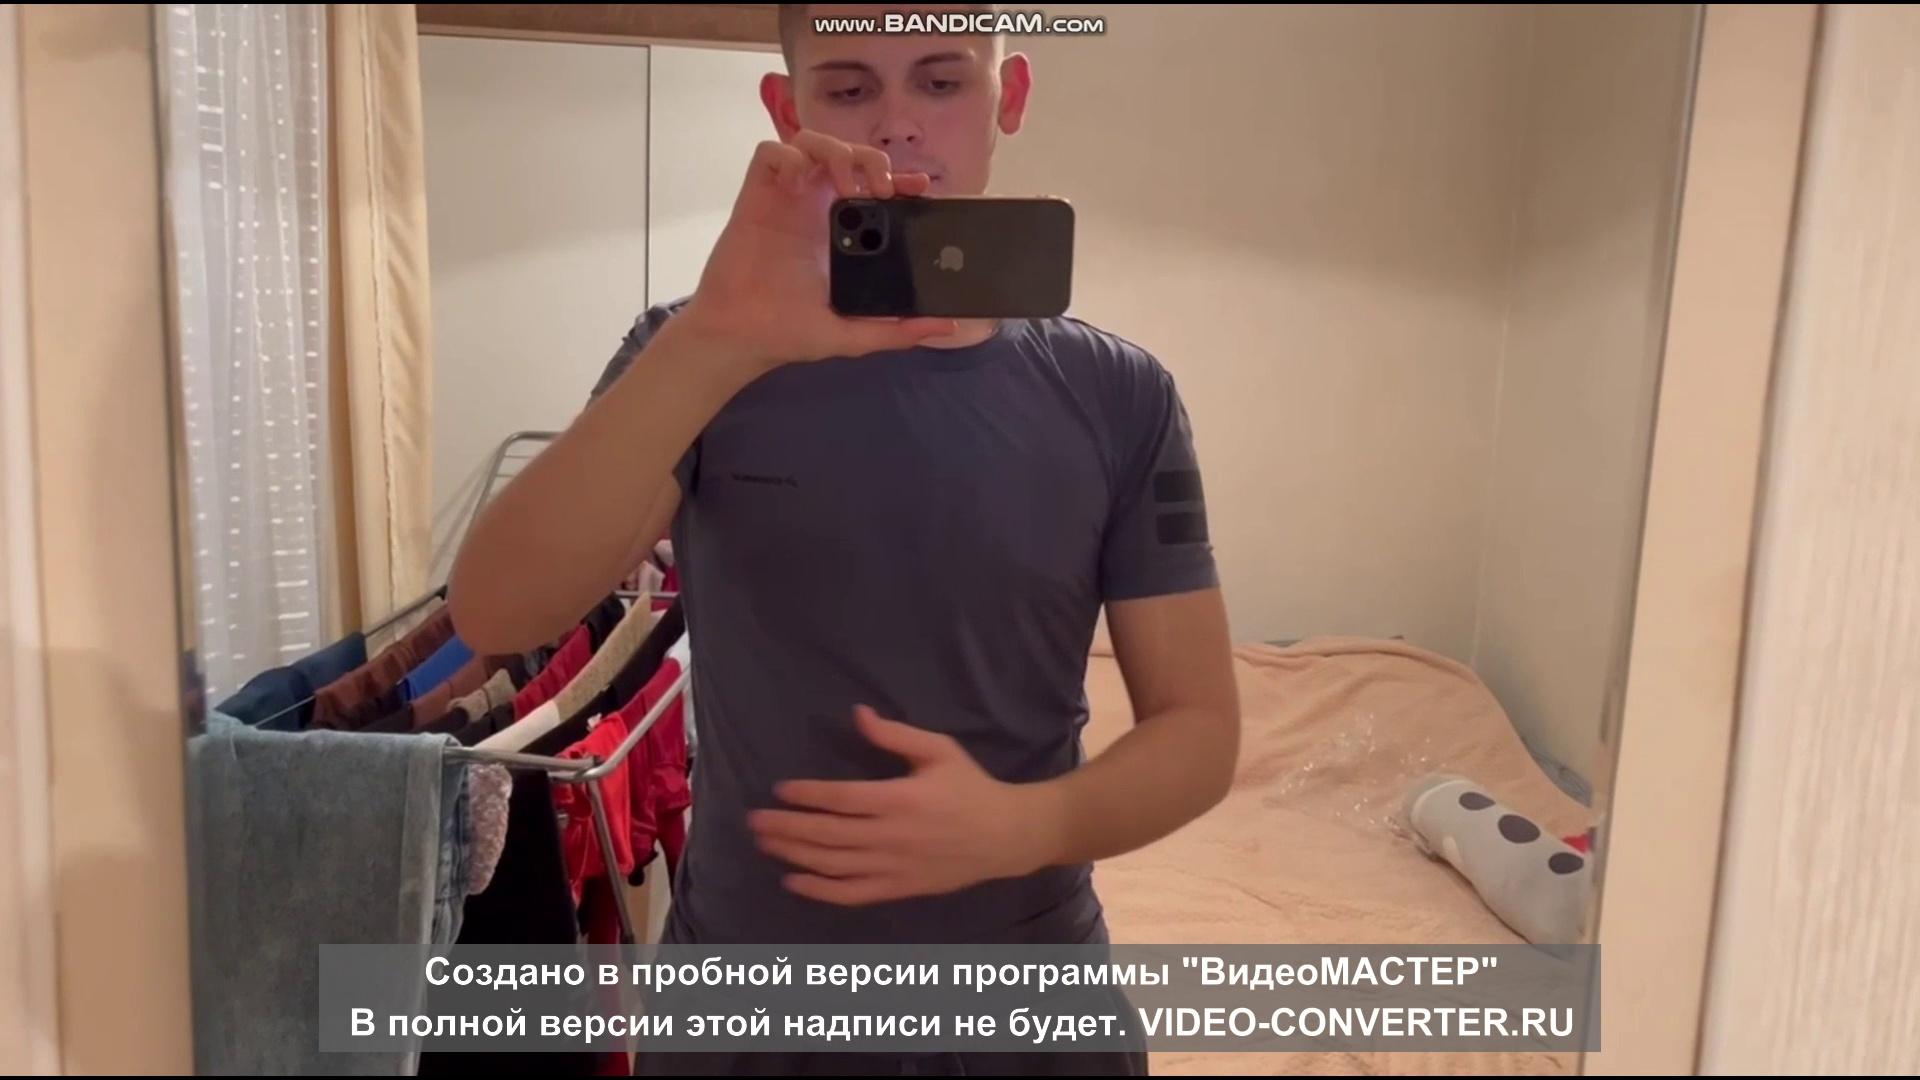Кисть: (750, 702, 1010, 906)
